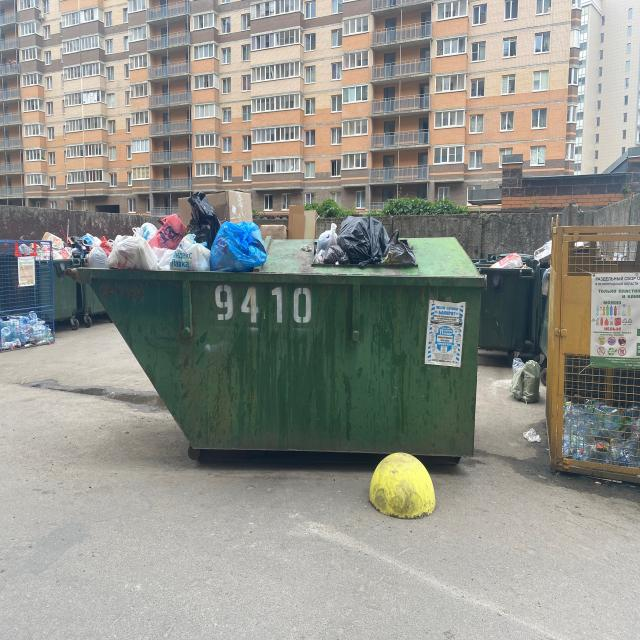bin: (74, 274, 483, 459)
plastic: (113, 204, 415, 269)
